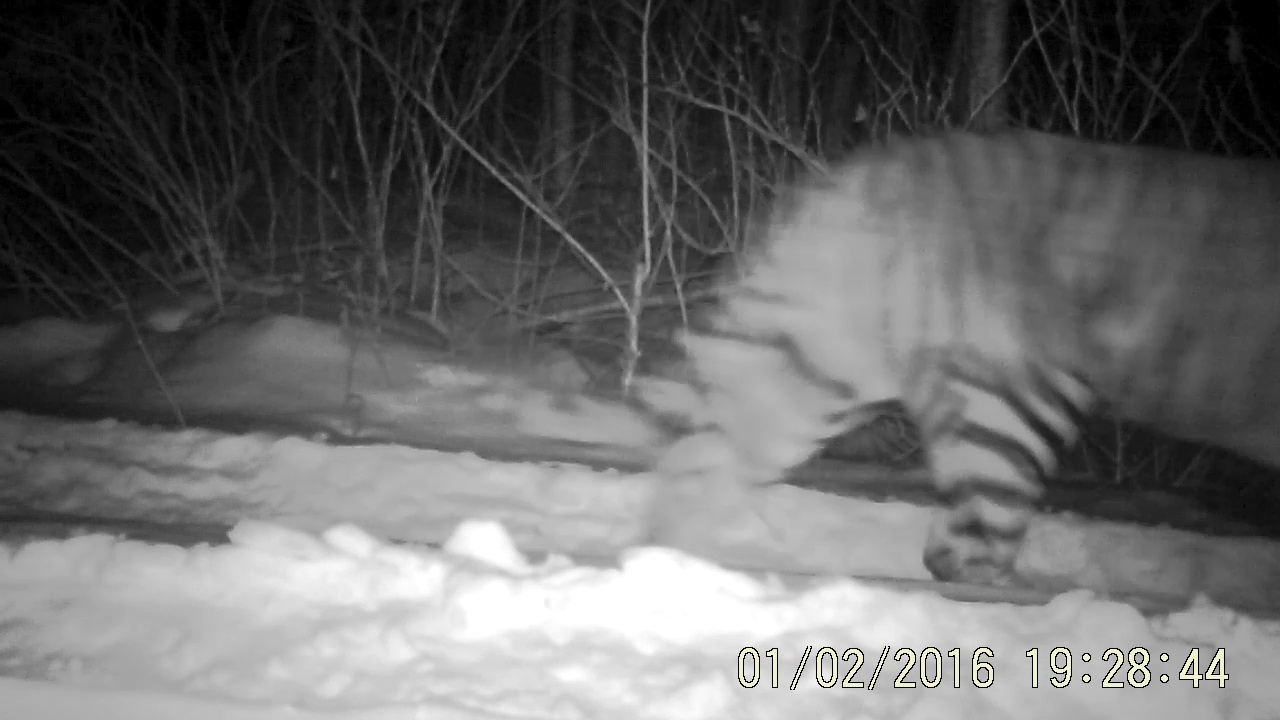Tiger: (596, 99, 1280, 609)
